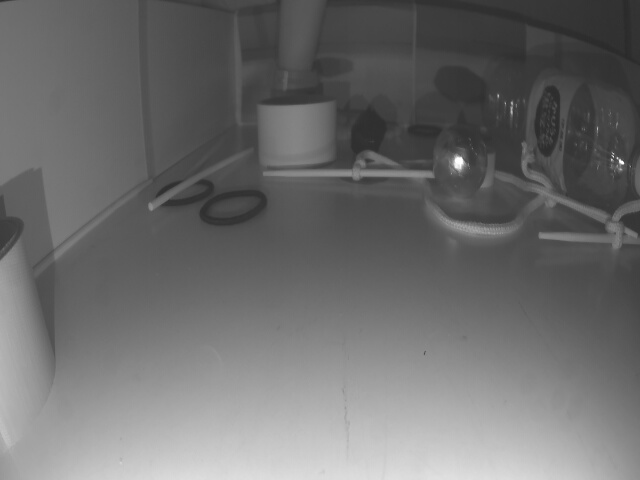Dead: (350, 109, 384, 155)
Live: (433, 123, 486, 196)
